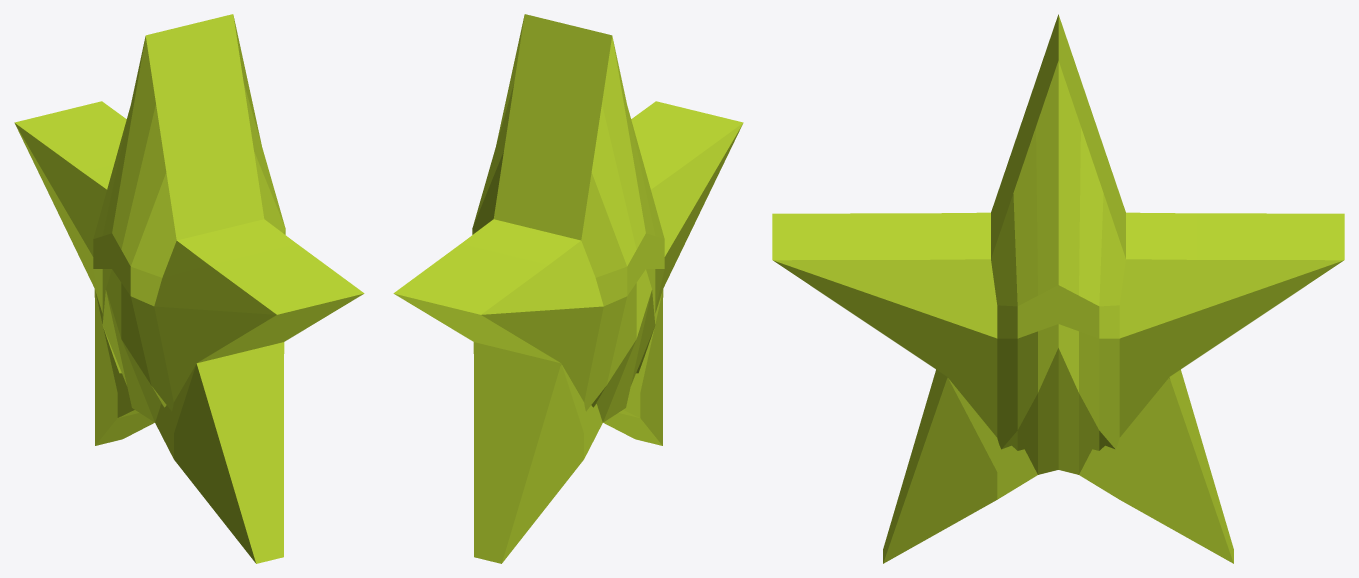
Rendered from starfruit.glb.
3 renders of one model, left to right at view 1: azimuth 30°, elevation 25°; view 2: azimuth 150°, elevation 25°; view 3: azimuth 270°, elevation 25°, orthographic. The views are drawn at different scales.
Visible parts, largest first — view 1: Plane; view 2: Plane; view 3: Plane.
Part boxes in pixels (x1,y1,x2,y2): Plane: (14,14,364,563); Plane: (393,14,743,563); Plane: (772,14,1344,563).
Size of the model in its own units: 8.82 by 24.05 by 24.01.
